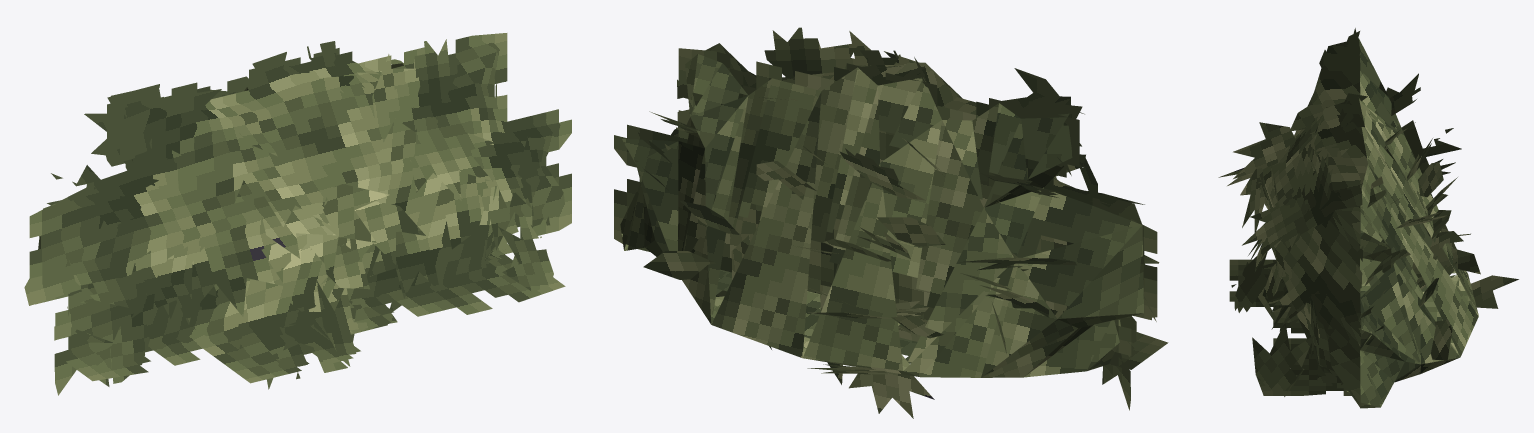
The model's file is leafy_1287_cut_far.glb.
The picture shows the model from 3 angles, left to right: view 1: azimuth 30°, elevation 25°; view 2: azimuth 150°, elevation 25°; view 3: azimuth 270°, elevation 25°; orthographic projection. The views are drawn at different scales.
Visible parts, largest first — view 1: leafy_1287_cut_lod1; view 2: leafy_1287_cut_lod1; view 3: leafy_1287_cut_lod1.
Part boxes in pixels (left/top/right/bottom): leafy_1287_cut_lod1: left=24, top=33, right=571, bottom=395; leafy_1287_cut_lod1: left=614, top=27, right=1168, bottom=418; leafy_1287_cut_lod1: left=1218, top=28, right=1518, bottom=408.
Bounding box in the file's own units: 0.9005 × 0.5316 × 0.5311.
Materials: 1 (1 with a texture image).
